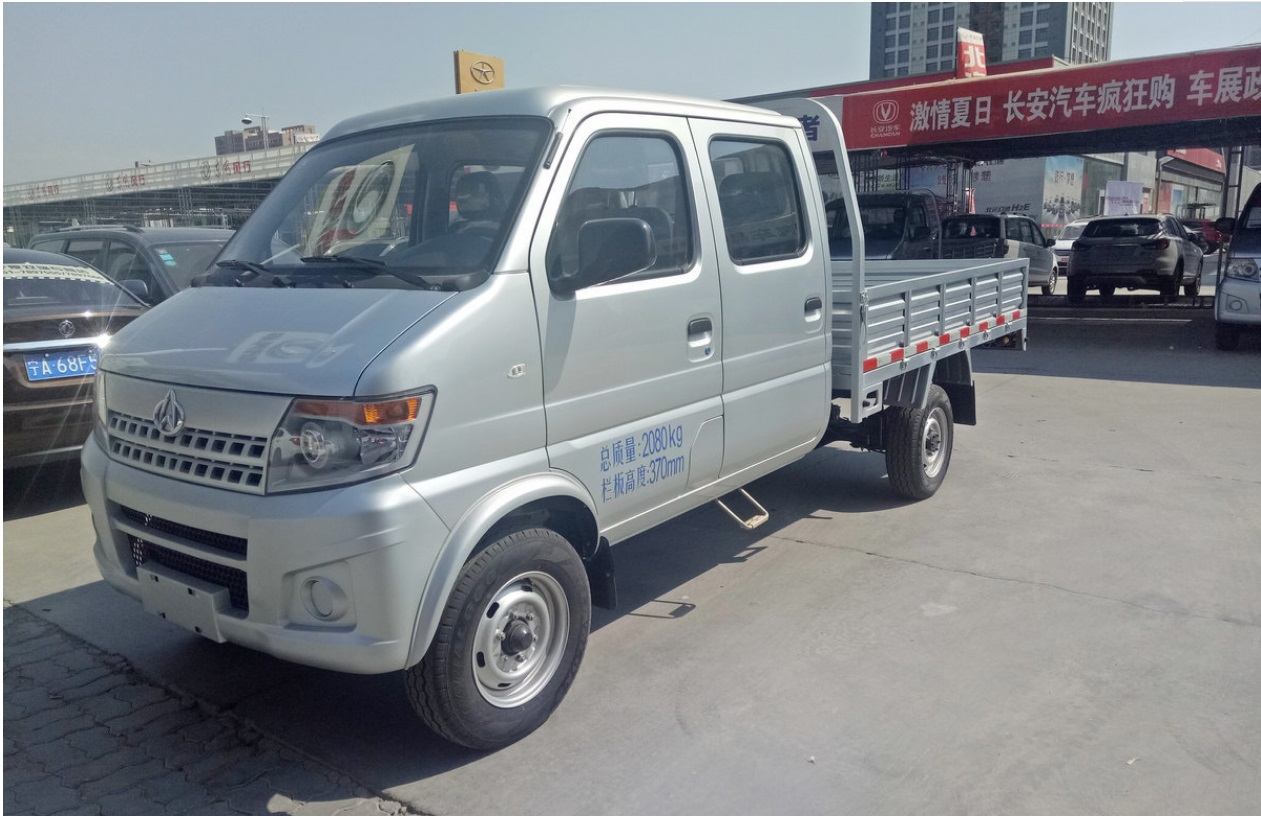truck: (75, 84, 1033, 767)
